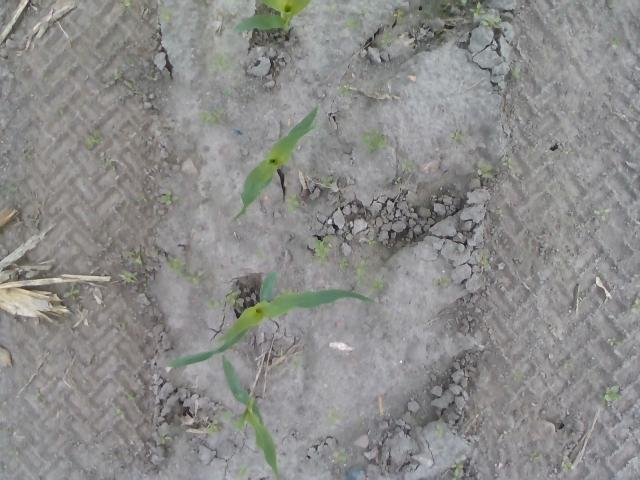Maize: (167, 270, 375, 370), (232, 107, 318, 219), (221, 355, 284, 480), (233, 0, 310, 36)
Weeds: (164, 254, 209, 288), (468, 0, 502, 27), (340, 6, 369, 33), (362, 126, 386, 156), (314, 236, 335, 264), (197, 107, 225, 127), (352, 256, 368, 288), (210, 52, 233, 73), (159, 0, 176, 28), (598, 382, 620, 402), (385, 7, 409, 24), (475, 161, 498, 178), (84, 128, 102, 149), (224, 288, 244, 306), (326, 409, 343, 430), (62, 285, 80, 303), (126, 80, 146, 96), (286, 192, 300, 214), (118, 270, 138, 284), (128, 248, 144, 265), (378, 30, 391, 48), (208, 297, 226, 310), (448, 130, 464, 144), (332, 451, 348, 465), (18, 145, 32, 161), (336, 256, 350, 272), (400, 160, 416, 174), (451, 463, 464, 480), (236, 463, 249, 480), (158, 432, 172, 446), (478, 255, 492, 268), (609, 36, 622, 50), (371, 274, 384, 288), (336, 86, 353, 96), (160, 192, 172, 206), (206, 419, 218, 433), (530, 450, 542, 462), (630, 298, 640, 312), (591, 208, 608, 216), (1, 185, 18, 193), (435, 423, 443, 440), (113, 70, 124, 82), (438, 276, 450, 286), (510, 66, 520, 78), (560, 462, 574, 470), (223, 87, 233, 98), (222, 412, 234, 421), (502, 159, 512, 169), (607, 336, 617, 346), (55, 104, 65, 114), (127, 57, 137, 66), (111, 408, 121, 416), (368, 238, 376, 248), (322, 176, 330, 186), (127, 392, 136, 400), (119, 0, 129, 7), (440, 0, 450, 6), (460, 0, 468, 6)
